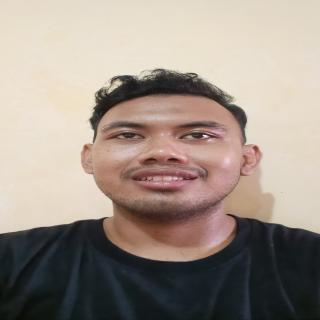Senang: (93, 89, 242, 216)
